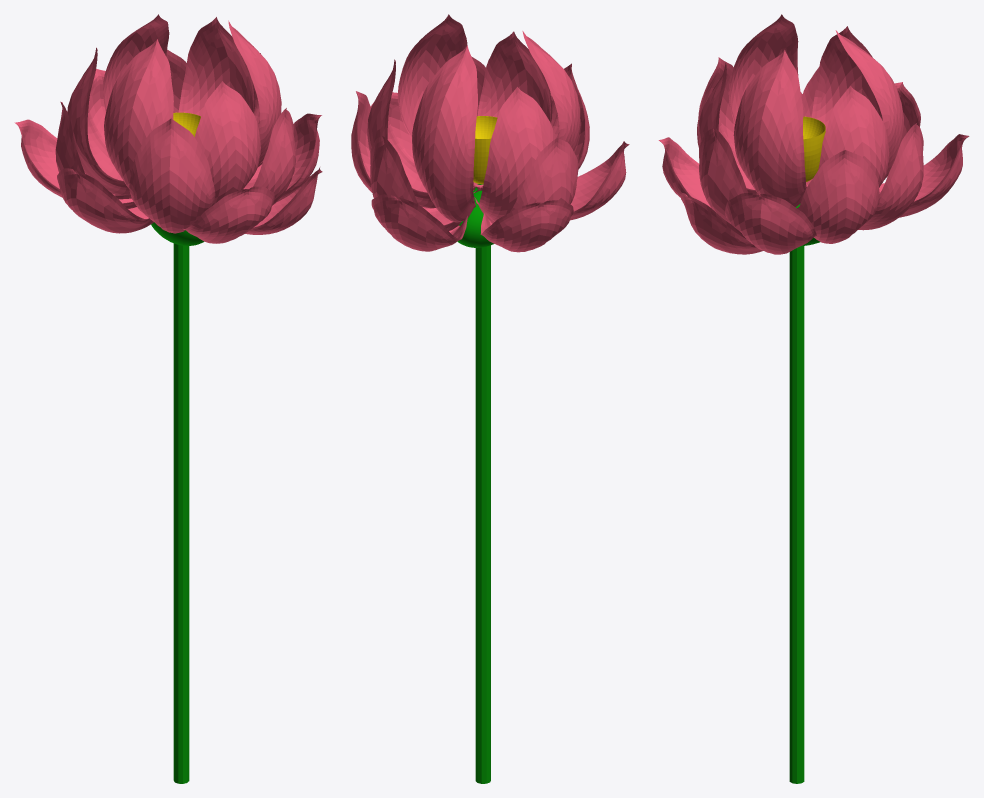
Rendered from Lotus055.fbx.
The picture shows the model from 3 angles, left to right: view 1: azimuth 30°, elevation 25°; view 2: azimuth 150°, elevation 25°; view 3: azimuth 270°, elevation 25°; orthographic projection.
Visible parts, largest first — view 1: pCylinder1, nurbsToPoly16, nurbsToPoly21, nurbsToPoly18, nurbsToPoly19, nurbsToPoly11, nurbsToPoly20, nurbsToPoly8, nurbsToPoly22, nurbsToPoly13, nurbsToPoly12, nurbsToPoly23 (+5 smaller); view 2: pCylinder1, nurbsToPoly23, nurbsToPoly20, nurbsToPoly18, nurbsToPoly22, nurbsToPoly10, nurbsToPoly12, nurbsToPoly14, nurbsToPoly21, nurbsToPoly11, nurbsToPoly19, nurbsToPoly17 (+5 smaller); view 3: pCylinder1, nurbsToPoly22, nurbsToPoly15, nurbsToPoly9, nurbsToPoly19, nurbsToPoly17, nurbsToPoly20, nurbsToPoly21, nurbsToPoly13, nurbsToPoly23, nurbsToPoly10, nurbsToPoly24 (+5 smaller).
Part boxes in pixels (x1,y1,x2,y2): pCylinder1: [173, 243, 189, 783]; nurbsToPoly16: [129, 118, 215, 233]; nurbsToPoly21: [104, 39, 173, 188]; nurbsToPoly18: [194, 81, 260, 203]; nurbsToPoly19: [178, 17, 255, 116]; nurbsToPoly11: [57, 168, 153, 233]; nurbsToPoly20: [67, 47, 130, 194]; nurbsToPoly8: [183, 186, 274, 243]; nurbsToPoly22: [228, 20, 281, 164]; nurbsToPoly13: [243, 108, 295, 205]; nurbsToPoly12: [14, 119, 131, 199]; nurbsToPoly23: [103, 14, 169, 112]; pCylinder1: [475, 245, 490, 783]; nurbsToPoly23: [412, 45, 477, 222]; nurbsToPoly20: [474, 87, 554, 222]; nurbsToPoly18: [473, 31, 552, 193]; nurbsToPoly22: [397, 14, 476, 190]; nurbsToPoly10: [371, 194, 467, 251]; nurbsToPoly12: [480, 200, 573, 252]; nurbsToPoly14: [489, 138, 578, 223]; nurbsToPoly21: [475, 31, 580, 190]; nurbsToPoly11: [570, 141, 629, 220]; nurbsToPoly19: [367, 59, 435, 208]; nurbsToPoly17: [370, 136, 461, 230]; pCylinder1: [789, 246, 804, 783]; nurbsToPoly22: [733, 50, 808, 207]; nurbsToPoly15: [798, 150, 879, 243]; nurbsToPoly9: [725, 192, 816, 254]; nurbsToPoly19: [818, 86, 889, 187]; nurbsToPoly17: [858, 123, 923, 230]; nurbsToPoly20: [806, 26, 882, 185]; nurbsToPoly21: [728, 14, 798, 123]; nurbsToPoly13: [699, 127, 798, 222]; nurbsToPoly23: [835, 30, 903, 179]; nurbsToPoly10: [879, 134, 969, 217]; nurbsToPoly24: [681, 193, 762, 254].
Size of the model in its own units: 18.54 by 53.55 by 20.12.
